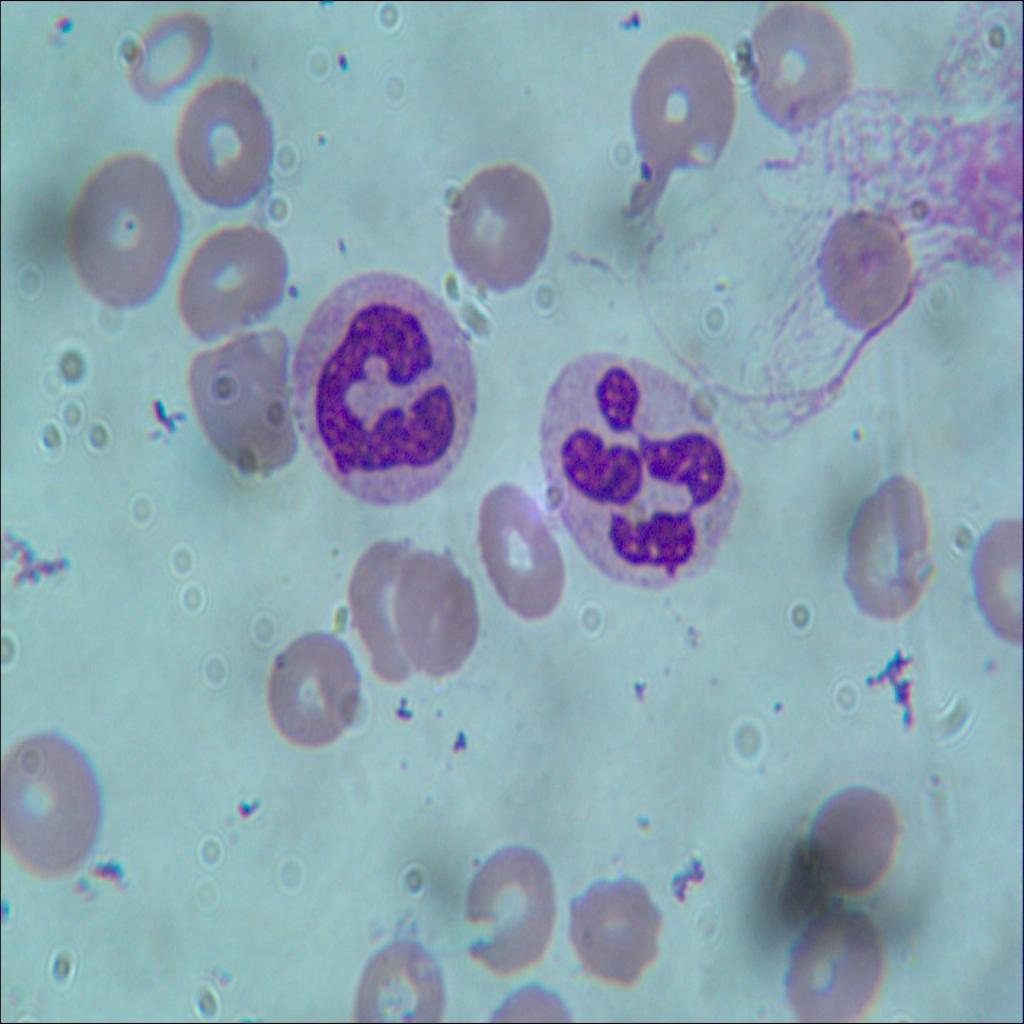Eritrosit: (55, 150, 184, 316), (836, 457, 946, 622), (441, 148, 559, 294), (0, 724, 98, 894), (468, 473, 575, 627), (188, 324, 295, 472), (622, 31, 726, 178), (811, 202, 921, 337), (178, 73, 278, 211), (566, 872, 669, 1005), (742, 11, 858, 129), (338, 529, 426, 684), (464, 835, 561, 974), (173, 230, 290, 337), (391, 548, 481, 678), (270, 621, 356, 757), (786, 902, 881, 1023), (815, 782, 901, 899), (116, 8, 218, 106), (346, 932, 446, 1023)
Neutrofil: (543, 349, 742, 588), (293, 262, 470, 502)
Platelet: (41, 12, 83, 51), (440, 724, 478, 762), (304, 122, 336, 156), (330, 45, 358, 76), (326, 230, 352, 255)
